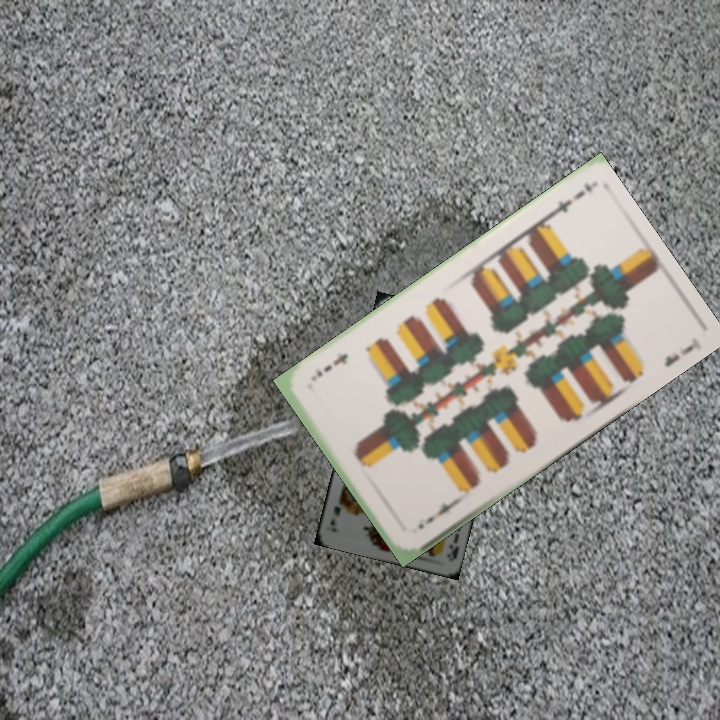E7: (542, 186, 588, 223), (413, 496, 460, 532)
EK: (442, 530, 461, 562)
